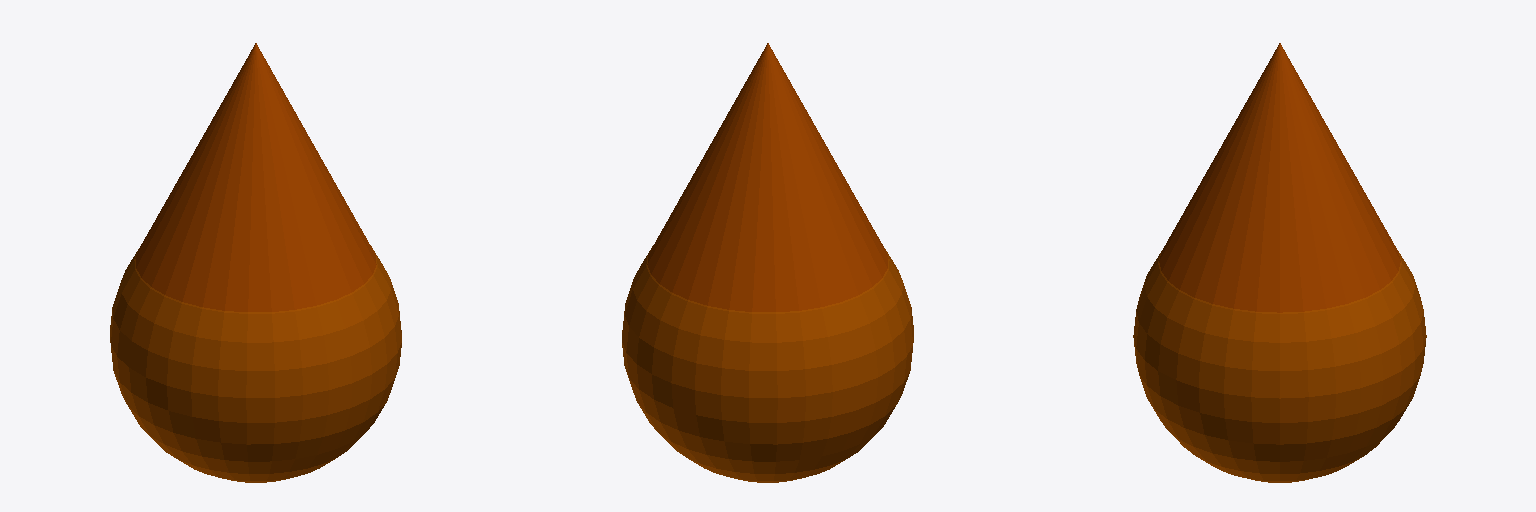
The model's file is seed.obj.
3 renders of one model, left to right at view 1: azimuth 30°, elevation 25°; view 2: azimuth 150°, elevation 25°; view 3: azimuth 270°, elevation 25°, orthographic.
Visible parts, largest first — view 1: Sphere, Cone; view 2: Sphere, Cone; view 3: Sphere, Cone.
Boxes of the visible parts, box(x1,y1,x2,y2) form: Sphere: box(110, 246, 401, 482); Cone: box(135, 43, 376, 311); Sphere: box(622, 246, 913, 482); Cone: box(647, 43, 888, 311); Sphere: box(1133, 251, 1426, 482); Cone: box(1159, 43, 1400, 312).
Size of the model in its own units: 2 by 3.21 by 2.